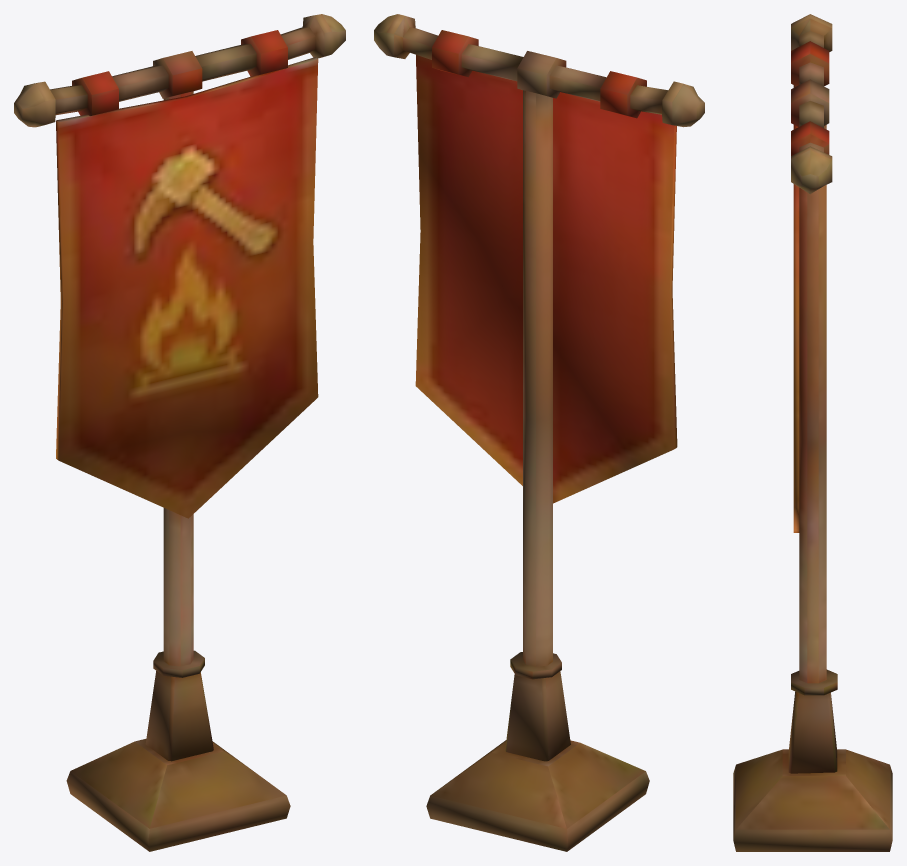
File: wyn_outpost_hearthwright_banner.glb
The picture shows the model from 3 angles, left to right: view 1: azimuth 30°, elevation 25°; view 2: azimuth 150°, elevation 25°; view 3: azimuth 270°, elevation 25°; orthographic projection. The views are drawn at different scales.
Parts seen in each view (by area): view 1: tripo_node_97336a8e-6bf8-49da-9a1b-0fb47a705537; view 2: tripo_node_97336a8e-6bf8-49da-9a1b-0fb47a705537; view 3: tripo_node_97336a8e-6bf8-49da-9a1b-0fb47a705537.
Boxes of the visible parts, bbox=[...] form: tripo_node_97336a8e-6bf8-49da-9a1b-0fb47a705537: bbox=[14, 14, 345, 851]; tripo_node_97336a8e-6bf8-49da-9a1b-0fb47a705537: bbox=[374, 14, 704, 851]; tripo_node_97336a8e-6bf8-49da-9a1b-0fb47a705537: bbox=[733, 14, 892, 851].
Bounding box in the file's own units: 1.34 × 3 × 0.5878.
Materials: 1 (1 with a texture image).
